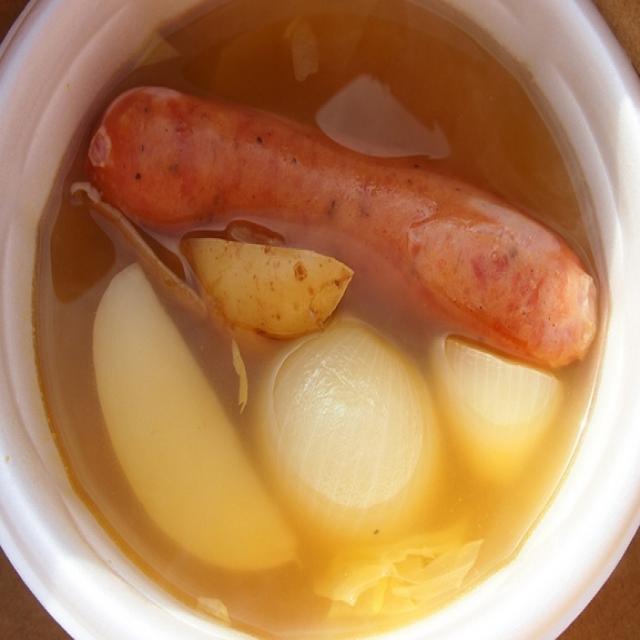汤锅炖物: (0, 1, 633, 631)
